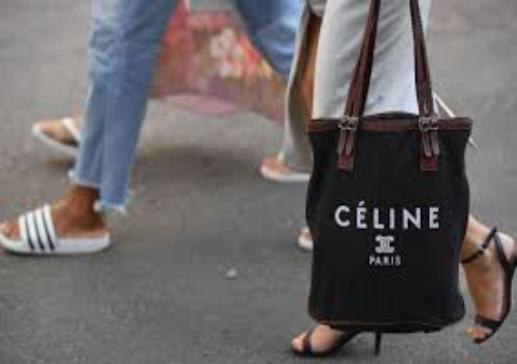CELINE: (327, 195, 438, 232)
